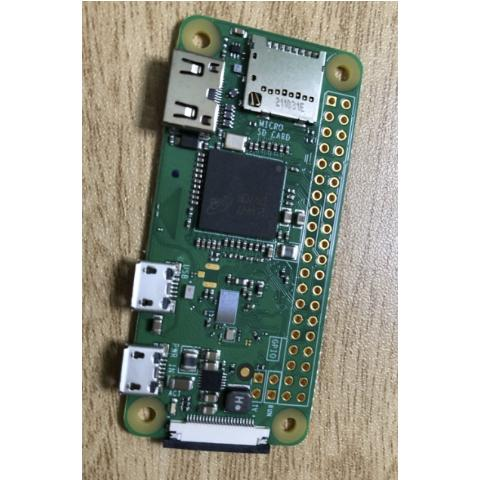Raspberry-Pi-Zero-W: (116, 13, 364, 455)
